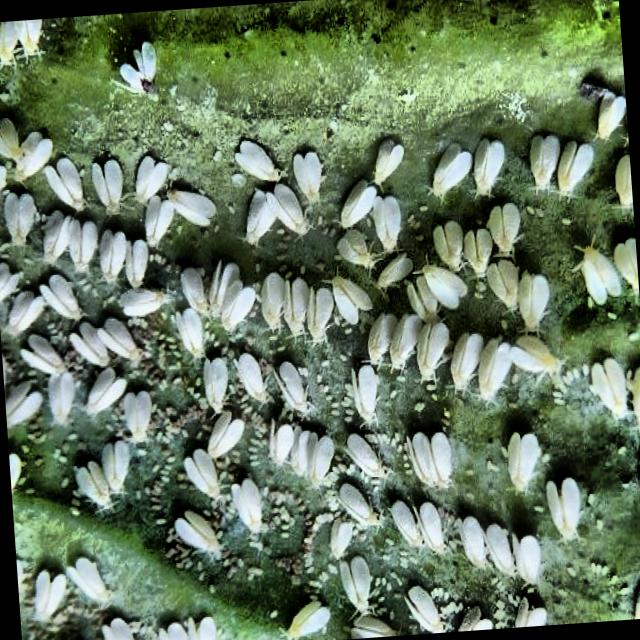egg: (132, 322, 182, 373), (23, 606, 83, 640), (366, 431, 404, 454), (248, 438, 268, 468), (562, 366, 590, 386), (312, 513, 335, 532), (396, 88, 418, 104), (332, 456, 351, 473), (274, 506, 290, 522), (590, 561, 608, 575), (474, 280, 486, 300), (248, 566, 264, 580), (239, 24, 254, 38), (527, 205, 544, 217), (403, 452, 412, 474), (619, 474, 633, 488), (486, 460, 499, 472), (160, 464, 171, 476), (158, 378, 168, 391), (554, 392, 564, 404), (414, 402, 426, 412), (510, 373, 520, 384), (279, 264, 288, 276), (406, 213, 415, 224), (346, 384, 353, 398), (596, 518, 604, 530), (618, 446, 628, 454), (586, 494, 594, 504), (582, 366, 590, 376), (174, 378, 182, 387), (568, 567, 575, 577), (630, 333, 640, 340), (620, 586, 628, 594), (390, 390, 398, 398), (386, 538, 394, 546), (254, 263, 262, 271), (502, 320, 508, 330), (502, 448, 508, 458), (610, 575, 617, 583), (543, 455, 550, 463), (608, 312, 616, 319), (428, 384, 436, 391), (398, 375, 406, 382), (329, 230, 336, 238), (278, 255, 286, 262), (283, 233, 291, 240), (588, 298, 593, 308), (323, 227, 330, 234), (213, 225, 220, 232), (535, 506, 543, 512), (563, 218, 571, 224), (420, 206, 428, 212), (416, 236, 424, 242), (346, 410, 354, 416), (282, 532, 290, 538), (300, 266, 306, 274), (156, 518, 164, 524), (332, 410, 339, 416), (322, 386, 329, 392), (467, 492, 473, 498), (432, 394, 438, 400), (341, 356, 347, 362), (228, 206, 234, 212), (322, 361, 329, 366), (326, 396, 332, 401), (467, 470, 473, 475), (278, 230, 284, 234), (346, 418, 352, 421), (332, 404, 338, 407), (335, 256, 341, 259), (405, 444, 407, 450)
whitefly: (575, 243, 621, 305), (408, 429, 453, 492), (430, 142, 474, 198), (66, 554, 112, 607), (476, 338, 514, 402), (0, 20, 45, 74), (555, 140, 597, 197), (589, 358, 628, 419), (44, 156, 86, 212), (546, 477, 582, 541), (506, 432, 544, 492), (511, 334, 564, 377), (235, 137, 282, 185), (96, 315, 142, 364), (39, 272, 84, 322), (118, 41, 159, 95), (470, 137, 508, 195), (20, 334, 68, 379), (332, 274, 373, 326), (448, 333, 486, 389), (242, 189, 280, 245), (174, 508, 220, 554), (84, 367, 128, 415), (416, 322, 452, 380), (90, 157, 126, 215), (337, 482, 380, 530), (69, 320, 110, 370), (518, 272, 552, 332), (424, 265, 468, 311), (3, 191, 39, 247), (14, 130, 55, 179), (40, 209, 76, 264), (5, 290, 48, 336), (340, 556, 374, 614), (205, 410, 246, 458), (168, 188, 217, 228), (388, 314, 424, 368), (32, 568, 69, 620), (340, 178, 378, 228), (134, 154, 172, 204), (406, 584, 444, 634), (371, 196, 404, 253), (4, 380, 44, 427), (184, 448, 220, 500), (274, 361, 308, 416), (528, 135, 561, 191), (286, 600, 332, 640), (487, 204, 522, 256), (292, 150, 325, 205), (207, 260, 241, 313), (346, 433, 386, 478), (76, 460, 112, 510), (485, 522, 517, 578), (366, 312, 400, 364), (232, 478, 264, 533), (304, 287, 336, 342), (487, 258, 520, 311), (282, 278, 312, 336), (98, 228, 130, 282), (336, 228, 376, 271), (273, 183, 306, 235), (235, 352, 268, 404), (48, 370, 78, 426), (220, 286, 258, 330), (433, 220, 465, 272), (174, 307, 206, 359), (68, 220, 100, 272), (391, 499, 424, 549), (102, 439, 132, 494), (372, 138, 406, 186), (260, 272, 288, 330), (352, 364, 380, 422), (123, 390, 154, 442), (463, 228, 495, 278), (305, 436, 337, 486), (288, 426, 320, 476), (203, 357, 231, 413), (143, 200, 177, 246), (407, 276, 439, 324), (594, 95, 628, 140), (578, 76, 624, 109), (459, 516, 487, 570), (120, 288, 170, 318), (158, 616, 218, 640), (418, 501, 444, 555), (349, 611, 401, 638), (514, 534, 542, 584), (614, 239, 639, 295), (267, 416, 296, 464), (180, 268, 207, 316), (124, 239, 151, 287), (375, 254, 413, 288), (328, 518, 356, 560), (613, 154, 633, 211), (14, 20, 44, 56), (513, 596, 547, 627), (0, 116, 22, 161), (453, 604, 488, 630), (101, 616, 138, 640), (8, 450, 26, 496), (0, 263, 21, 302), (139, 40, 157, 84), (629, 366, 640, 429), (610, 196, 634, 222), (0, 156, 10, 207), (185, 614, 199, 640), (632, 574, 640, 619), (16, 556, 24, 598)
